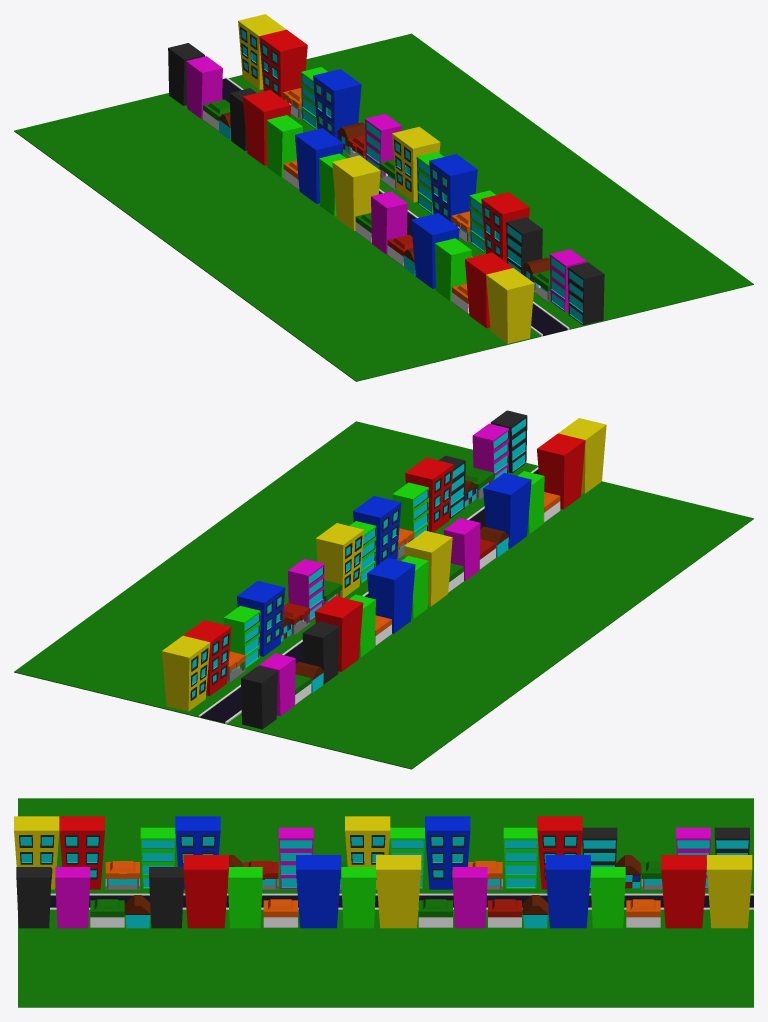
File: edificios.fbx
3 views of the same model, one above another, from view 1: azimuth 30°, elevation 25°; view 2: azimuth 150°, elevation 25°; view 3: azimuth 270°, elevation 25° (orthographic). The views are drawn at different scales.
Parts seen in each view (by area): view 1: Cubo.032, Cubo.008, Cubo.036, Cubo.047, Cubo.050, Cubo.056, Cubo.055, Cubo.037, Cubo.051, Cubo.023, Cubo.040, Cubo.059 (+16 smaller); view 2: Cubo.032, Cubo.046, Cubo.019, Cubo.023, Cubo.037, Cubo.055, Cubo.050, Cubo.059, Cubo.024, Cubo.036, Cubo.040, Cubo.056 (+16 smaller); view 3: Cubo.032, Cubo.047, Cubo.059, Cubo.050, Cubo.055, Cubo.056, Cubo.046, Cubo.037, Cubo.019, Cubo.008, Cubo.036, Cubo.051 (+29 smaller).
Boxes of the visible parts, bbox=[...] form: Cubo.032: bbox=[14, 33, 753, 381]; Cubo.008: bbox=[486, 268, 534, 343]; Cubo.036: bbox=[332, 155, 380, 230]; Cubo.047: bbox=[259, 29, 307, 103]; Cubo.050: bbox=[313, 69, 361, 138]; Cubo.056: bbox=[429, 154, 477, 226]; Cubo.055: bbox=[392, 126, 440, 202]; Cubo.037: bbox=[295, 128, 343, 203]; Cubo.051: bbox=[567, 262, 604, 325]; Cubo.023: bbox=[411, 213, 459, 288]; Cubo.040: bbox=[242, 90, 291, 165]; Cubo.059: bbox=[481, 192, 529, 262]; Cubo.032: bbox=[14, 421, 753, 769]; Cubo.046: bbox=[162, 635, 210, 711]; Cubo.019: bbox=[537, 433, 585, 509]; Cubo.023: bbox=[483, 473, 531, 548]; Cubo.037: bbox=[367, 558, 415, 633]; Cubo.055: bbox=[315, 523, 364, 597]; Cubo.050: bbox=[237, 581, 285, 656]; Cubo.059: bbox=[405, 457, 453, 532]; Cubo.024: bbox=[241, 666, 277, 729]; Cubo.036: bbox=[404, 530, 452, 606]; Cubo.040: bbox=[314, 596, 363, 671]; Cubo.056: bbox=[353, 496, 401, 566]; Cubo.032: bbox=[18, 798, 753, 1007]; Cubo.047: bbox=[661, 855, 706, 928]; Cubo.059: bbox=[183, 855, 228, 928]; Cubo.050: bbox=[545, 855, 590, 928]; Cubo.055: bbox=[376, 855, 421, 928]; Cubo.056: bbox=[296, 855, 341, 928]; Cubo.046: bbox=[707, 855, 752, 928]; Cubo.037: bbox=[425, 816, 470, 889]; Cubo.019: bbox=[59, 816, 104, 889]; Cubo.008: bbox=[14, 816, 59, 889]; Cubo.036: bbox=[345, 816, 390, 889]; Cubo.051: bbox=[16, 867, 51, 928].
Bounding box in the file's own units: 12904 × 1759 × 19329.
